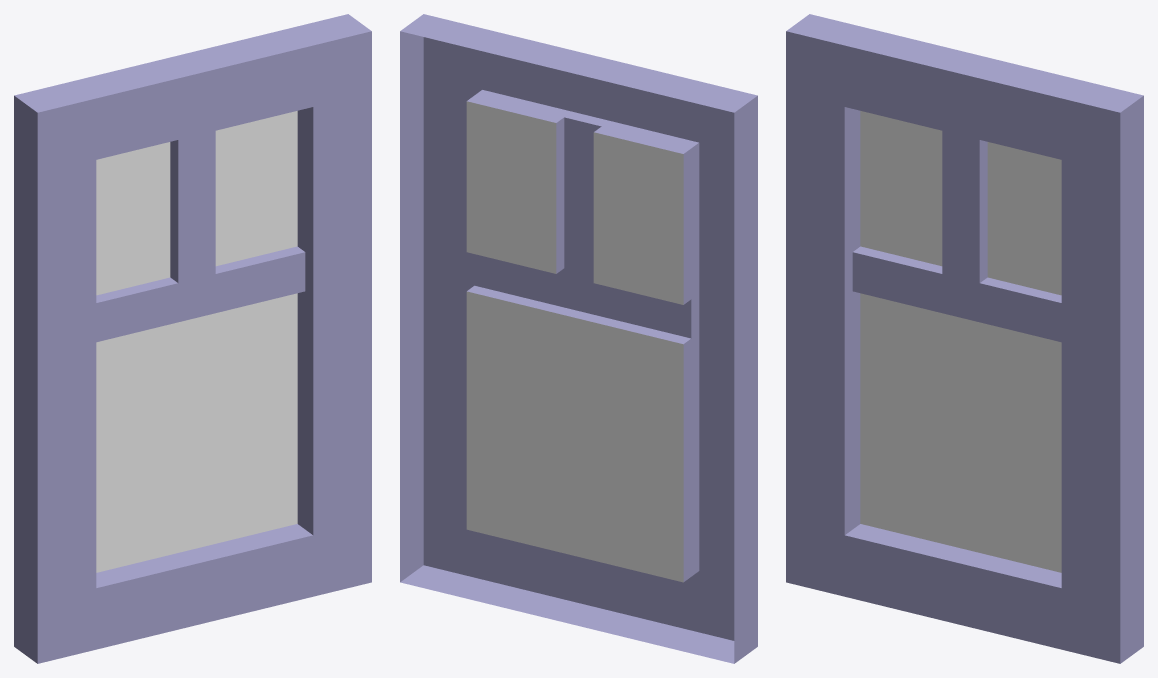
The model's file is window2.obj.
3 views of the same model, side by side, from view 1: azimuth 30°, elevation 25°; view 2: azimuth 150°, elevation 25°; view 3: azimuth 330°, elevation 25° (orthographic).
Visible parts, largest first — view 1: mergedBlocks; view 2: mergedBlocks; view 3: mergedBlocks.
Boxes of the visible parts, x1,y1,x2,y2 form: mergedBlocks: [14, 14, 371, 663]; mergedBlocks: [400, 14, 757, 663]; mergedBlocks: [786, 14, 1143, 663].
Bounding box in the file's own units: 0.246 × 0.3877 × 0.03.
